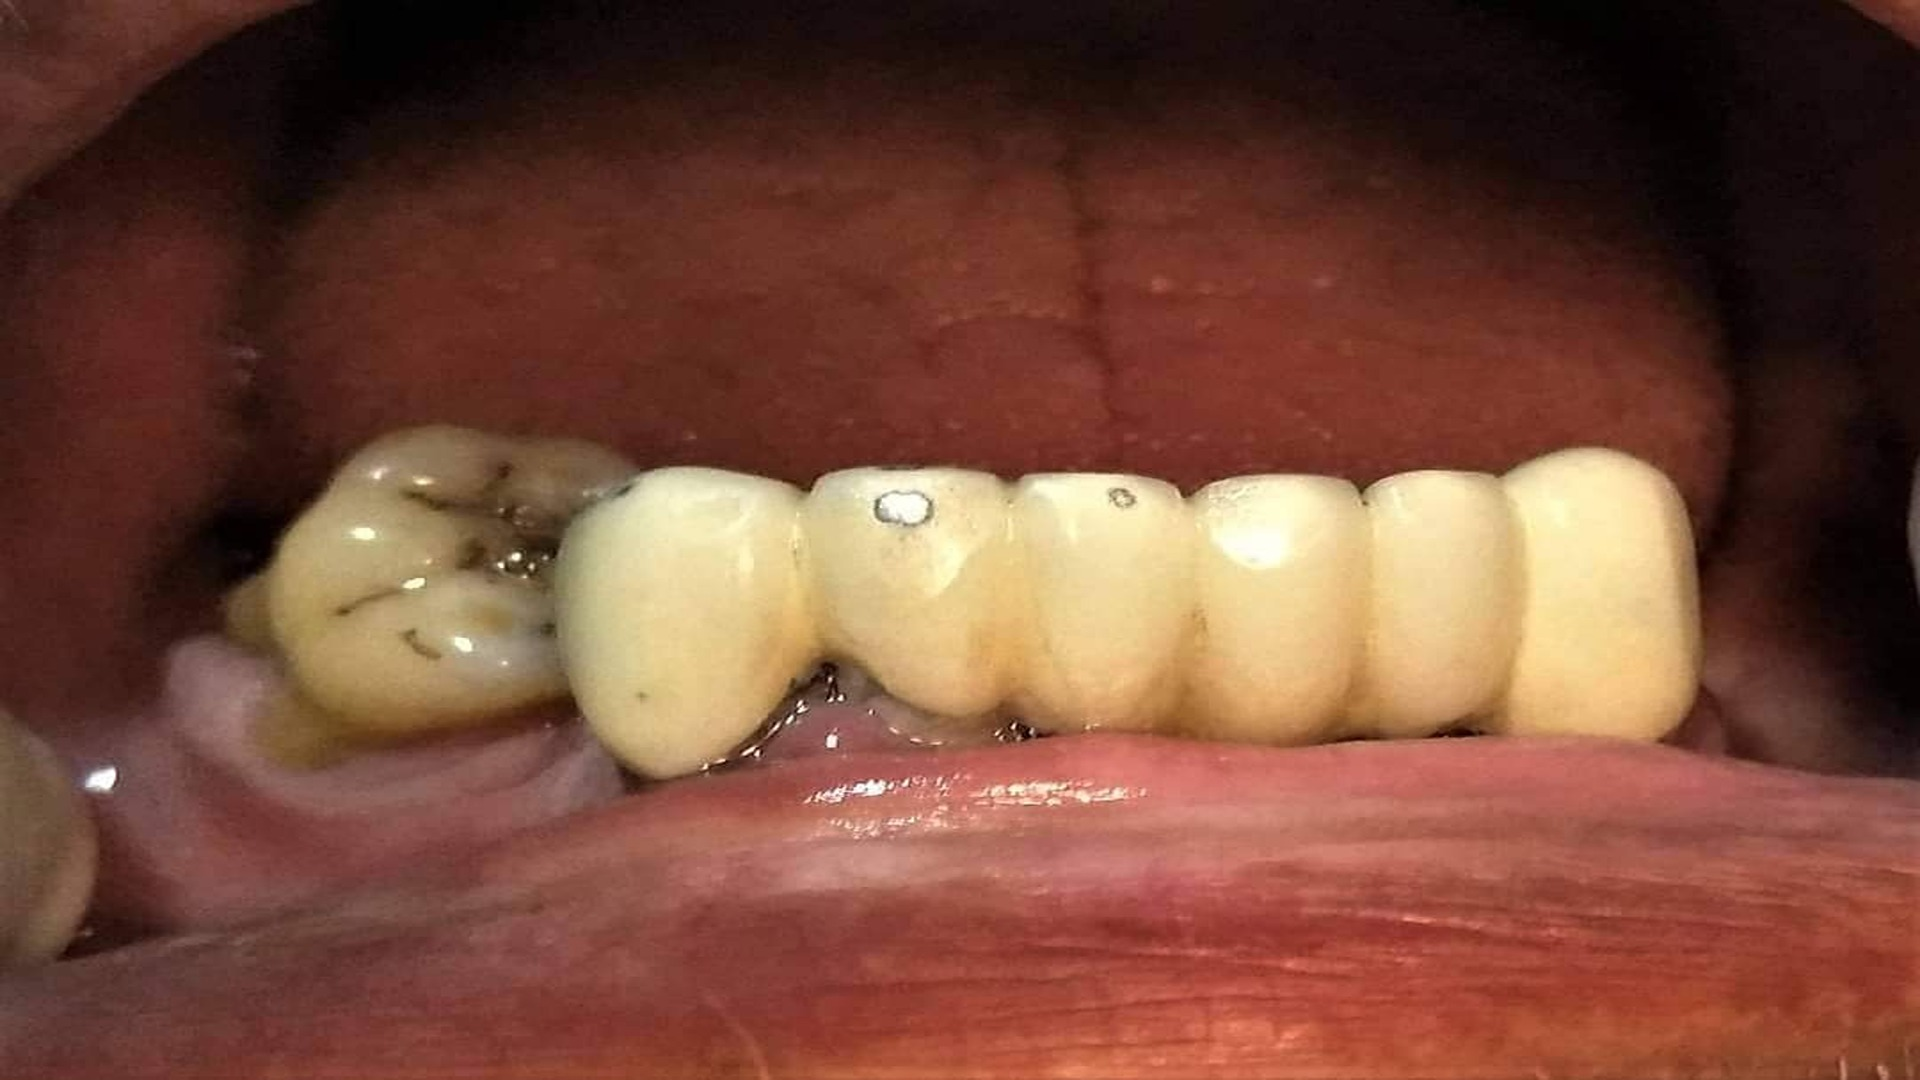tooth: (266, 425, 640, 728), (554, 465, 824, 781), (798, 467, 1025, 742), (1499, 446, 1702, 741), (996, 473, 1203, 735), (1179, 473, 1373, 746), (1335, 469, 1528, 738)
